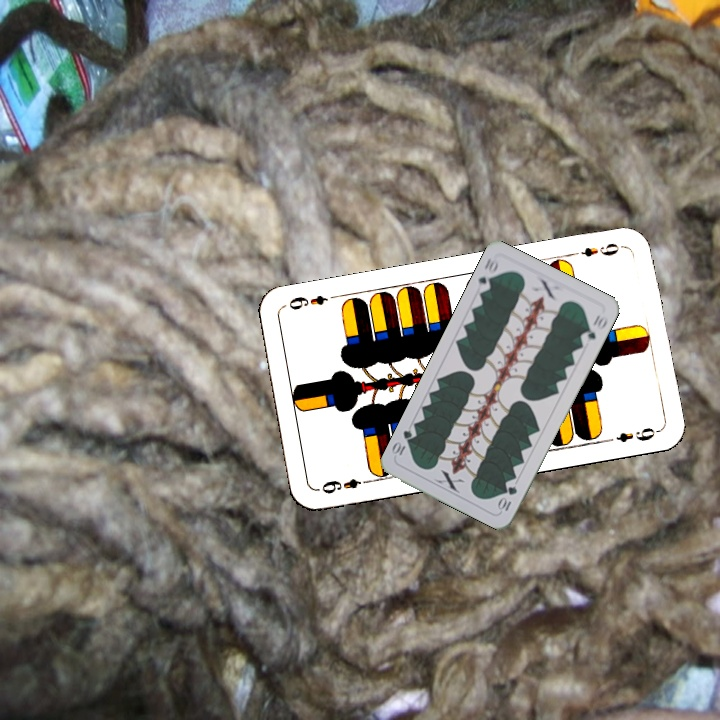E9: (317, 474, 374, 496), (577, 239, 627, 260)
G10: (473, 254, 502, 295), (494, 482, 520, 514)
